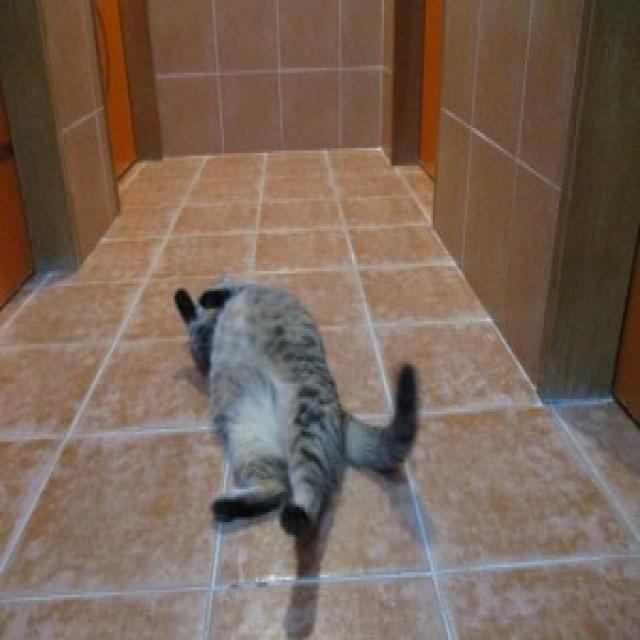cat: (170, 268, 430, 564)
